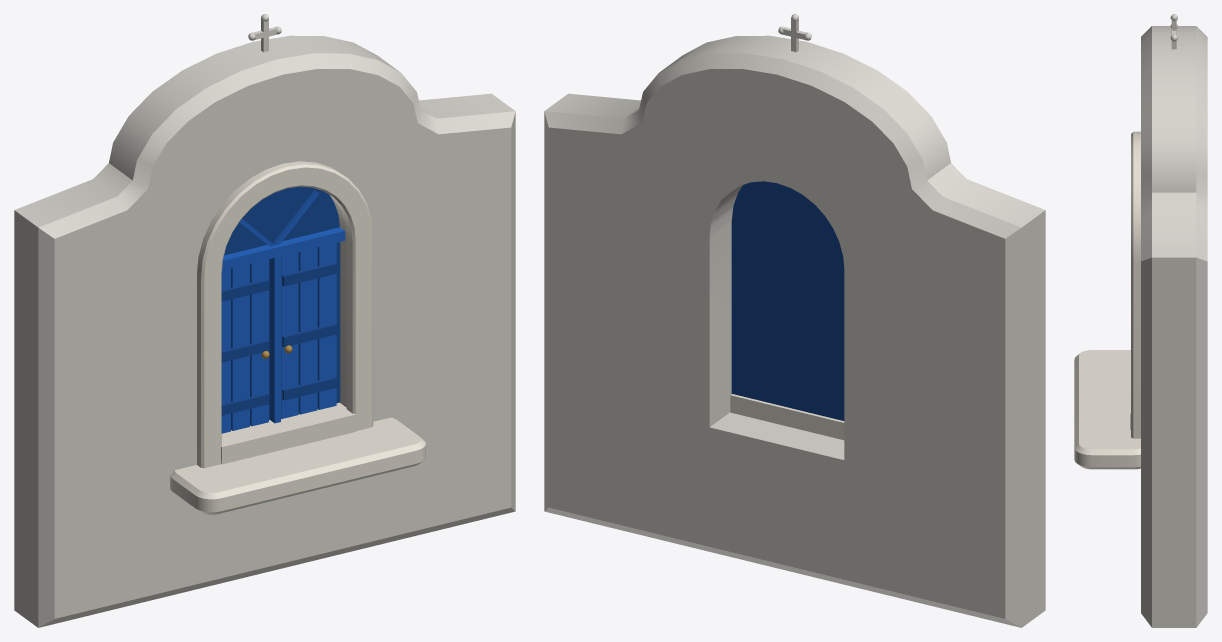
Rendered from gate.glb.
The picture shows the model from 3 angles, left to right: view 1: azimuth 30°, elevation 25°; view 2: azimuth 150°, elevation 25°; view 3: azimuth 270°, elevation 25°; orthographic projection. The views are drawn at different scales.
Visible parts, largest first — view 1: white0, shade1, shade23, deep2, shade4, blue16, blue15, blue7, blue6, blue14, blue5, blue3 (+1 smaller); view 2: white0, deep2, shade4; view 3: white0, shade23, shade1.
Boxes of the visible parts, box(x1,y1,x2,y2) form: white0: box(14, 35, 515, 627); shade1: box(197, 161, 373, 468); shade23: box(170, 417, 425, 514); deep2: box(224, 186, 340, 419); shade4: box(221, 402, 355, 464); blue16: box(317, 243, 336, 409); blue15: box(298, 247, 317, 414); blue7: box(231, 264, 249, 430); blue6: box(250, 259, 268, 426); blue14: box(281, 252, 298, 419); blue5: box(269, 256, 280, 423); blue3: box(222, 227, 345, 270); white0: box(544, 35, 1045, 627); deep2: box(731, 181, 844, 420); shade4: box(730, 394, 844, 440); white0: box(1141, 26, 1207, 627); shade23: box(1074, 350, 1140, 469); shade1: box(1131, 131, 1140, 438).
Bounding box in the file's own units: 4.6 × 5.03 × 1.2.
